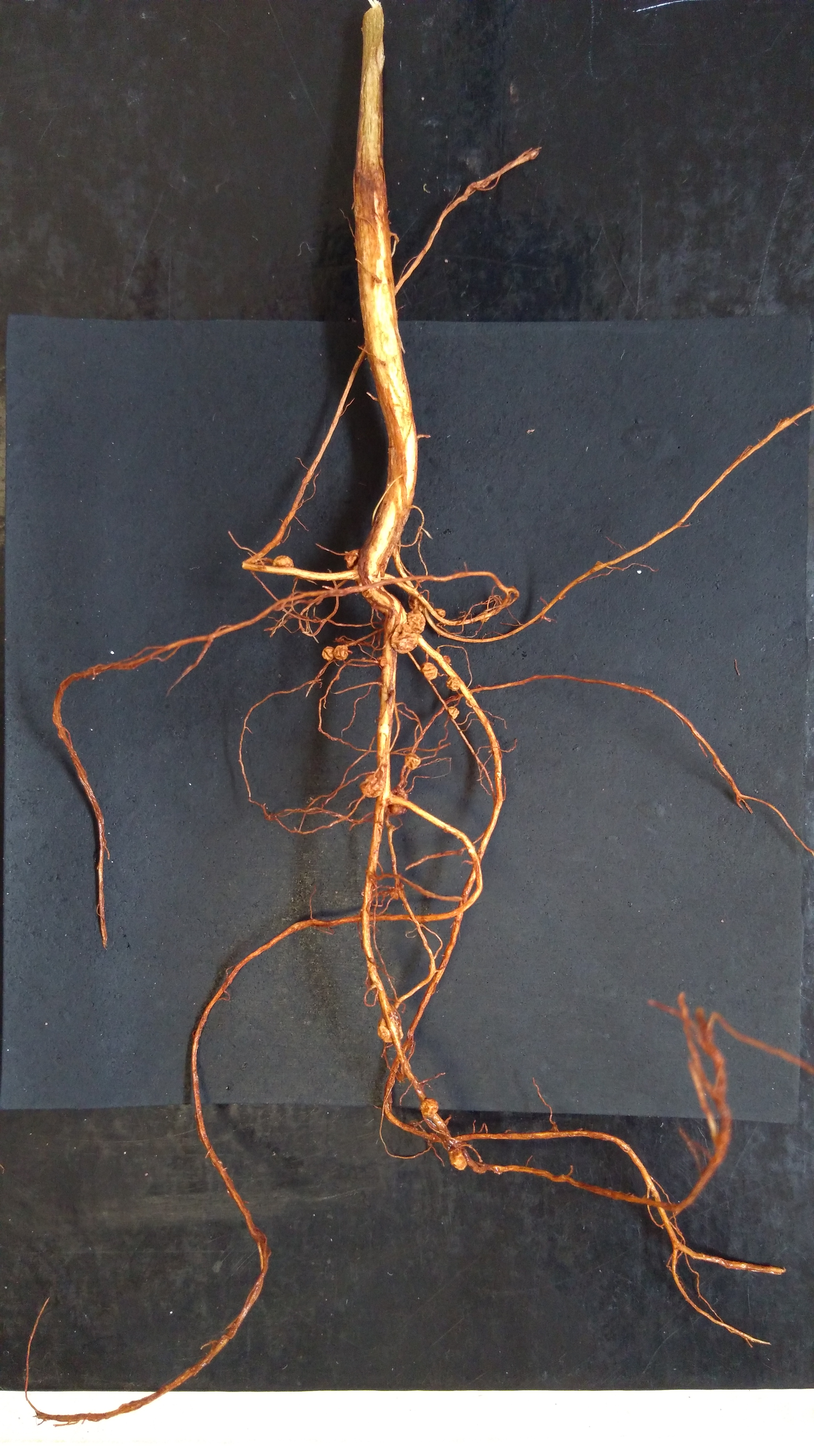nodule: (375, 1012, 405, 1043), (390, 624, 417, 654), (359, 772, 385, 799), (446, 1146, 468, 1174), (419, 1095, 440, 1118), (407, 609, 425, 634), (420, 659, 439, 682), (271, 554, 295, 571), (342, 548, 359, 571), (407, 592, 426, 612), (385, 802, 410, 817), (403, 752, 422, 771), (331, 644, 350, 662), (390, 785, 409, 801), (444, 675, 461, 692), (321, 644, 335, 663), (446, 705, 460, 721), (432, 606, 449, 619), (377, 657, 388, 669), (442, 654, 452, 665), (464, 697, 473, 709)
